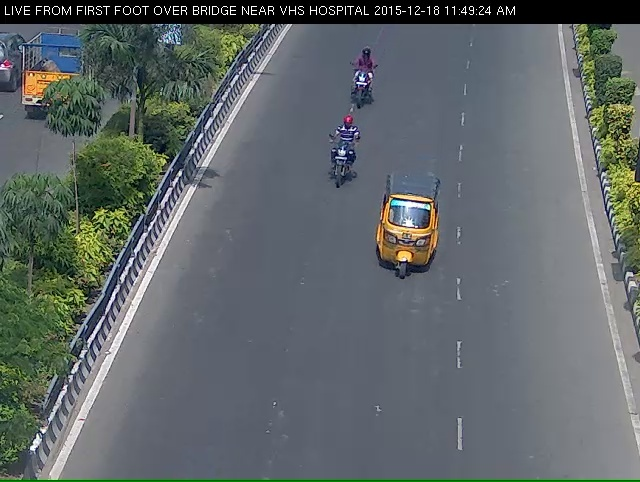Auto: (370, 185, 443, 304)
Person: (312, 132, 350, 210), (339, 60, 374, 125)
